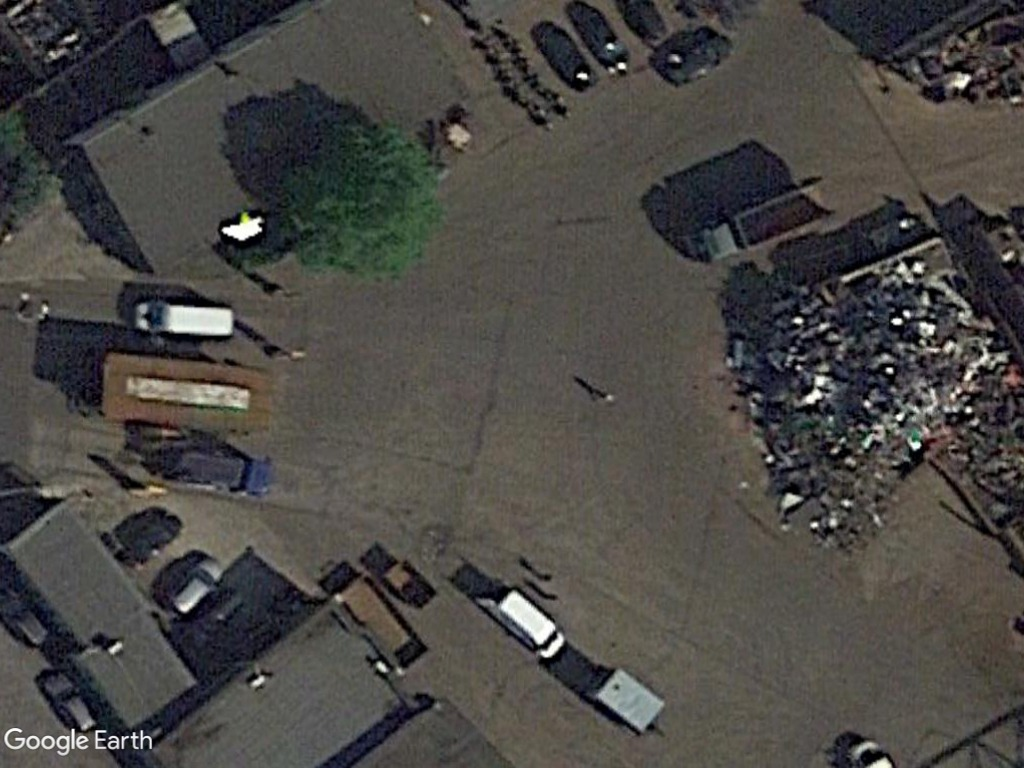car: (162, 551, 227, 620)
other: (676, 174, 841, 271)
van: (477, 572, 567, 667), (125, 294, 240, 346)
